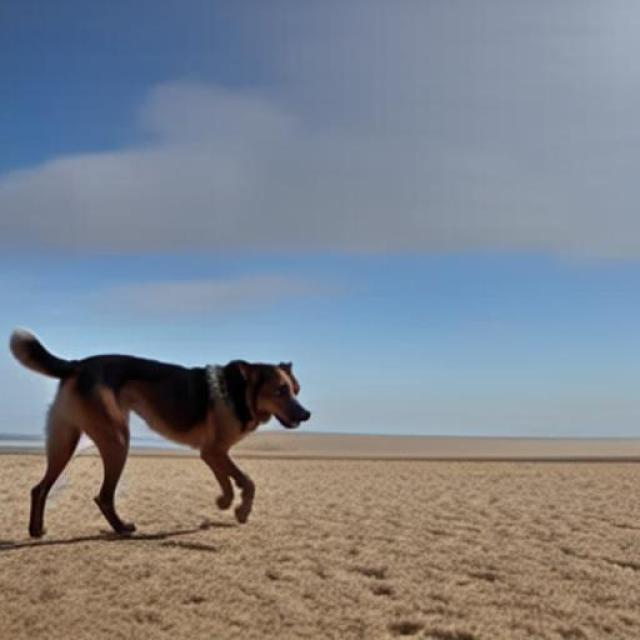Dog: (9, 326, 312, 538)
